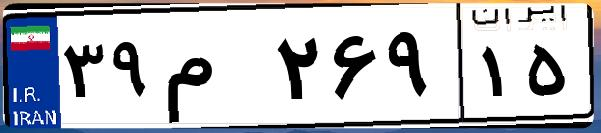1: (475, 38, 525, 113)
2: (270, 28, 330, 110)
3: (57, 26, 110, 100)
5: (525, 38, 570, 115)
6: (330, 28, 385, 110)
9: (385, 28, 445, 110), (110, 28, 158, 98)
م: (158, 20, 270, 120)
